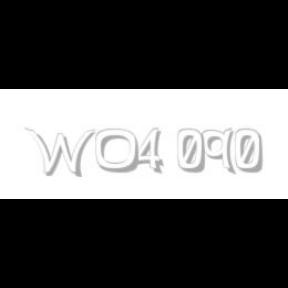0: (234, 128, 266, 174), (178, 128, 208, 174)
4: (132, 128, 163, 174)
O: (94, 128, 140, 174)
W: (24, 128, 96, 178)
q: (201, 128, 237, 176)
